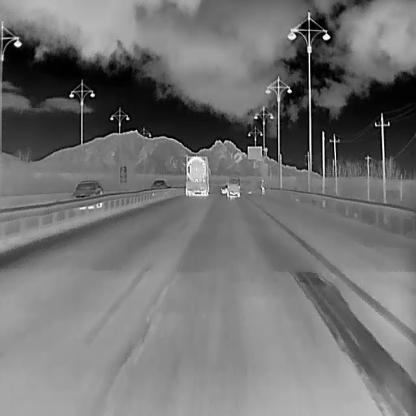car: (184, 155, 211, 197), (71, 180, 103, 209), (225, 177, 241, 198), (149, 179, 168, 191), (219, 183, 228, 194), (259, 178, 265, 194), (246, 189, 252, 195)
